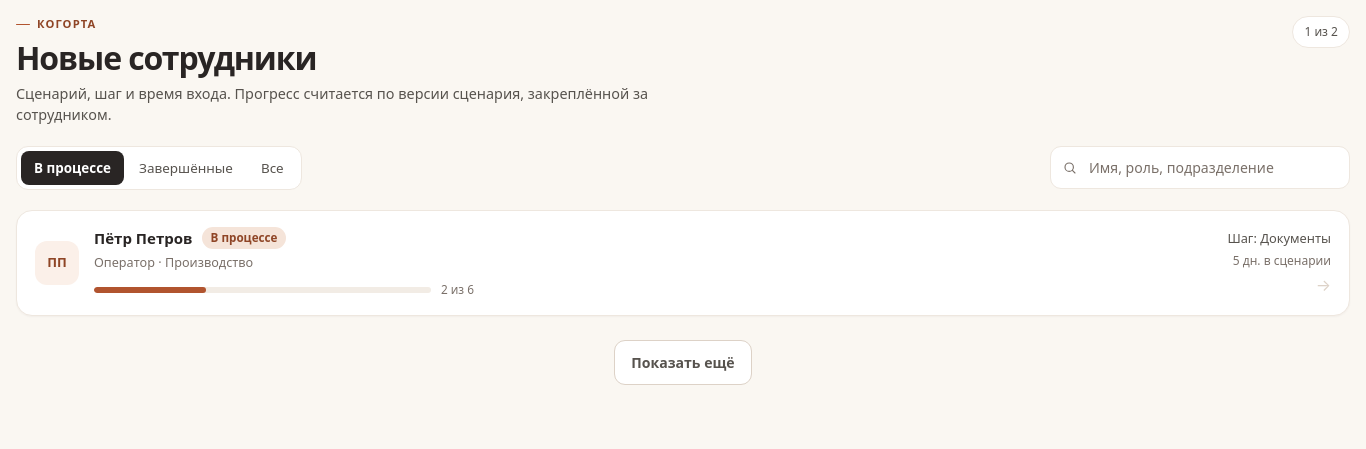
Test: RunsPage › loads the next page with the cursor the server returned
Click the button "Показать ещё".
click(683, 363)  # box [614,340,752,385]
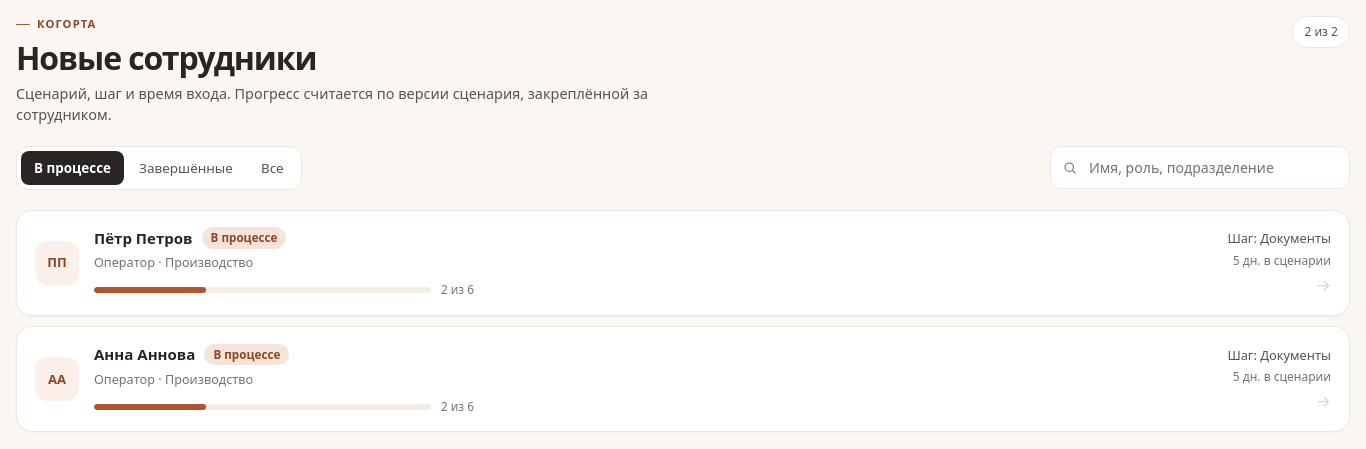
Expected: the text "Анна Аннова" is shown, [94,343,195,366]
Expected: the button "Показать ещё" is gone
